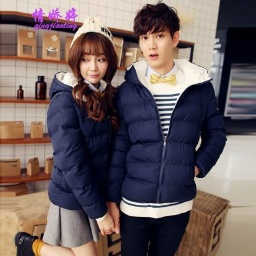face: (130, 1, 184, 73), (67, 30, 117, 95)
